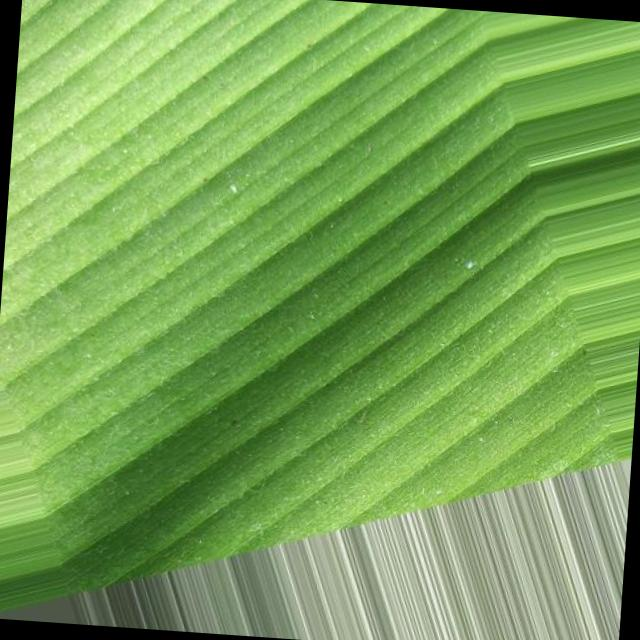Banana_Healthy: (71, 28, 544, 436)
